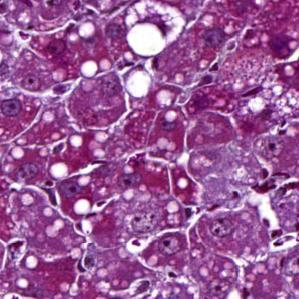ballooning: (124, 0, 187, 59), (122, 66, 154, 100)
